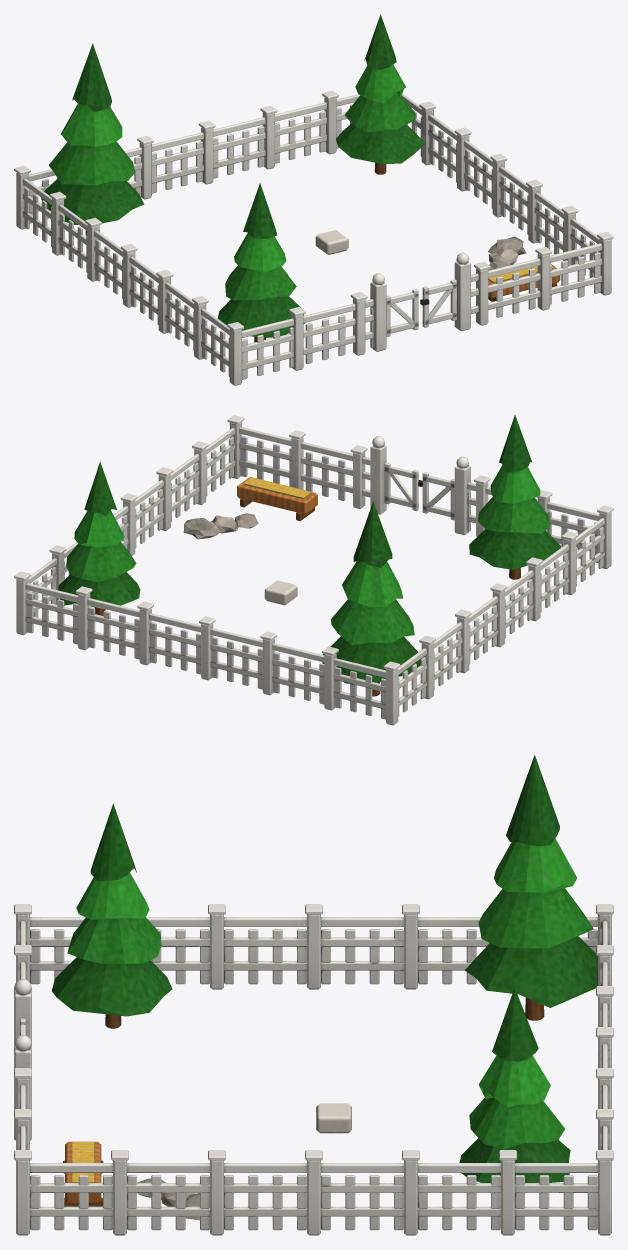
Rendered from deer_park.glb.
3 views of the same model, one above another, from view 1: azimuth 30°, elevation 25°; view 2: azimuth 150°, elevation 25°; view 3: azimuth 270°, elevation 25° (orthographic). The views are drawn at different scales.
Parts seen in each view (by area): view 1: deer_park, gate1, gate0; view 2: deer_park, gate1, gate0; view 3: deer_park.
Boxes of the visible parts, x1,y1,x2,y2 form: deer_park: [14, 14, 613, 385]; gate1: [420, 279, 456, 327]; gate0: [386, 288, 418, 336]; deer_park: [14, 415, 613, 725]; gate1: [384, 462, 422, 511]; gate0: [422, 472, 454, 520]; deer_park: [14, 755, 613, 1235].
Bounding box in the file's own units: 2.99 × 1.45 × 2.99.
Materials: 1 (1 with a texture image).
